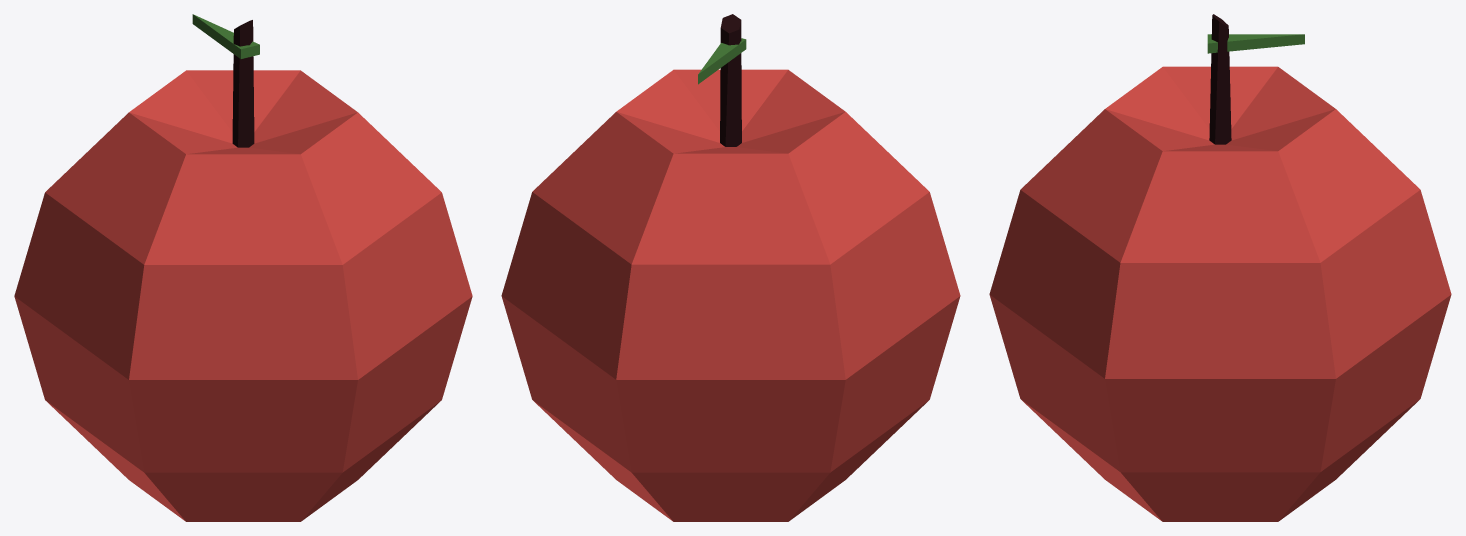
The model's file is Item_Apple.fbx.
3 renders of one model, left to right at view 1: azimuth 30°, elevation 25°; view 2: azimuth 150°, elevation 25°; view 3: azimuth 270°, elevation 25°, orthographic.
Visible parts, largest first — view 1: Sphere; view 2: Sphere; view 3: Sphere.
Part boxes in pixels (x1,y1,x2,y2): Sphere: (14,14,472,521); Sphere: (501,14,960,521); Sphere: (989,14,1451,521).
Size of the model in its own units: 124 by 159 by 143.
